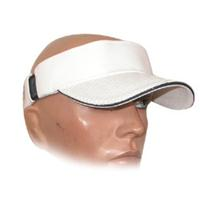hat: (23, 40, 194, 110)
